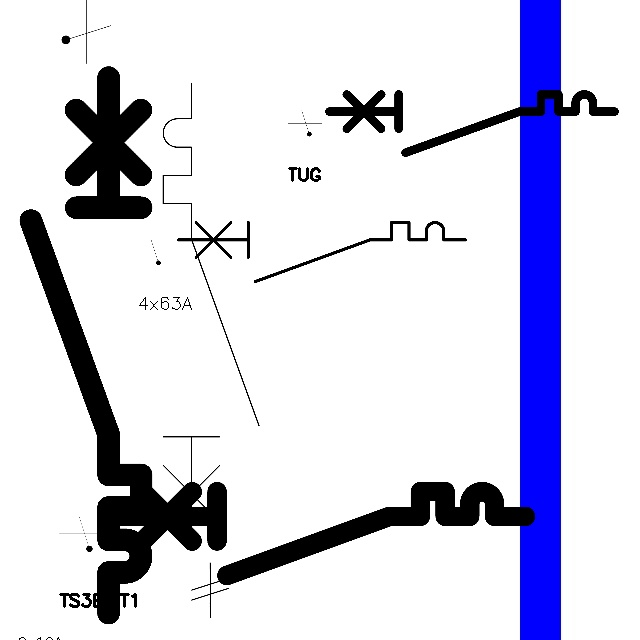interruptor_termomagnetico: (17, 63, 155, 627), (151, 71, 271, 562), (107, 481, 536, 586), (171, 215, 473, 289), (321, 87, 621, 160)
